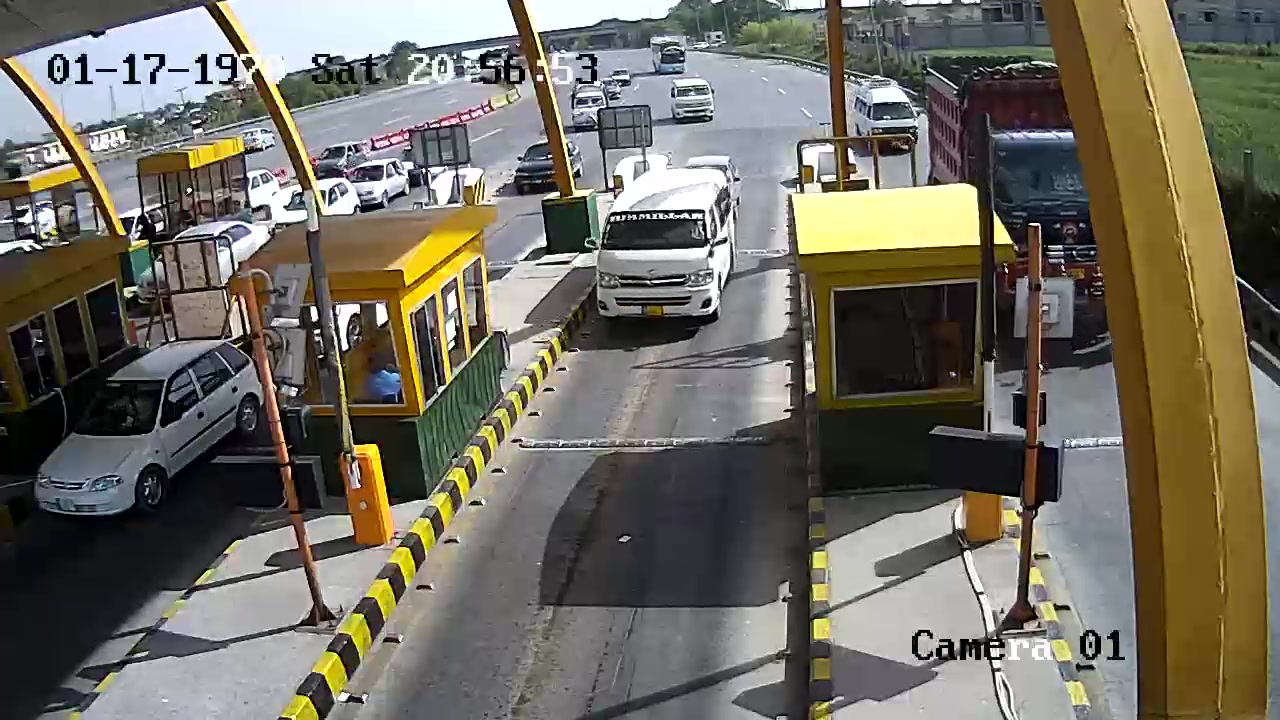F2: (576, 161, 750, 345)
